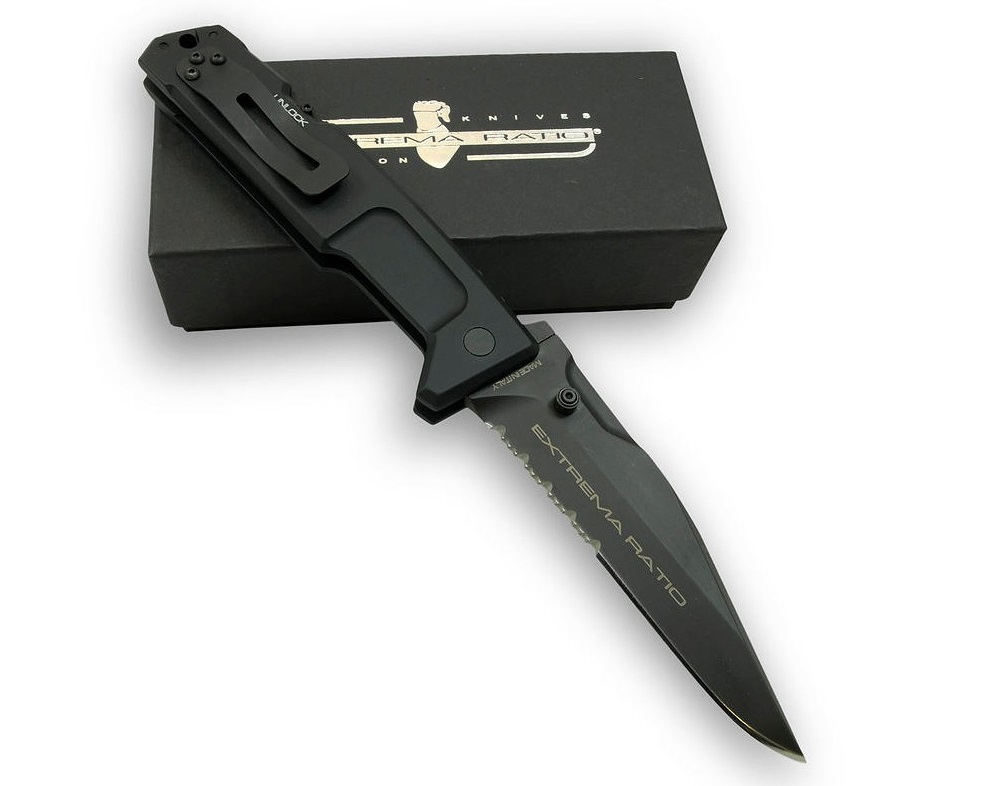knife: (403, 314, 818, 773)
